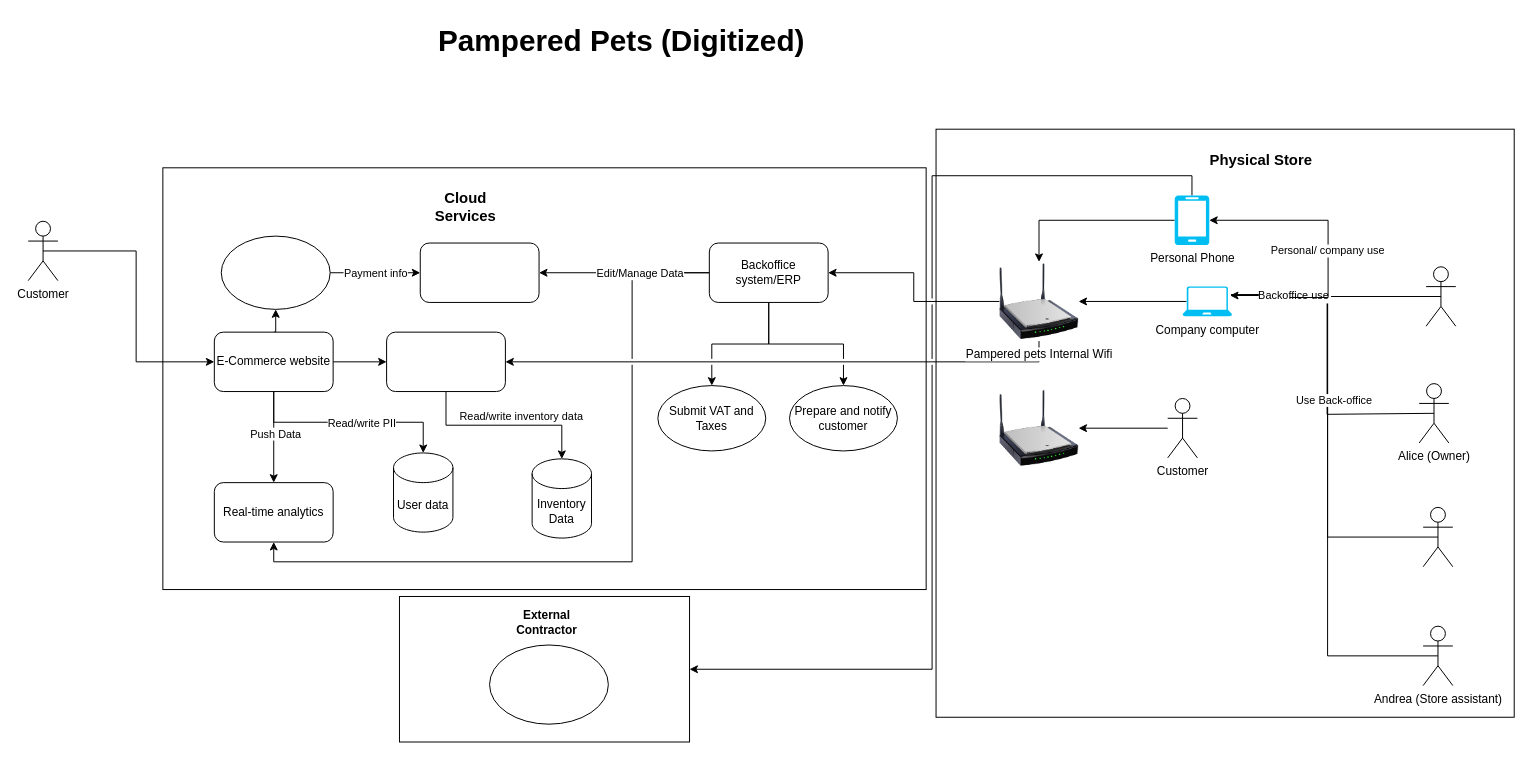
This 1533x759 diagram has some shape labels left out. Each missing label, with the box of its shape:
Cathy (Manager): (1422, 506, 1453, 567)
Harry (Warehouse manager): (1425, 266, 1456, 326)
Inventory Management: (386, 331, 505, 392)
Online marketing: (489, 644, 608, 724)
Order Goods: (220, 235, 330, 309)
Pampered pets Customer Wifi: (999, 388, 1078, 467)
Payment System: (419, 242, 539, 302)
